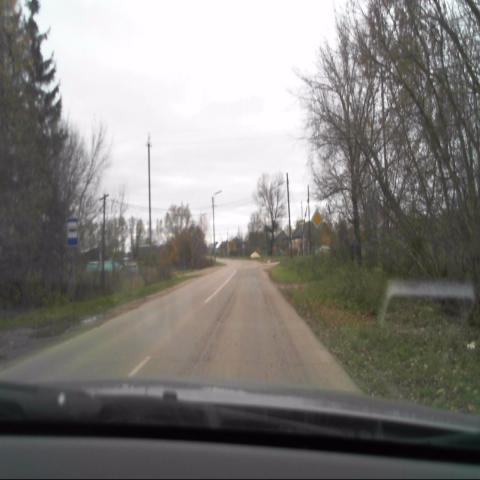2_1: (310, 208, 322, 230)
5_16: (66, 219, 77, 244)
